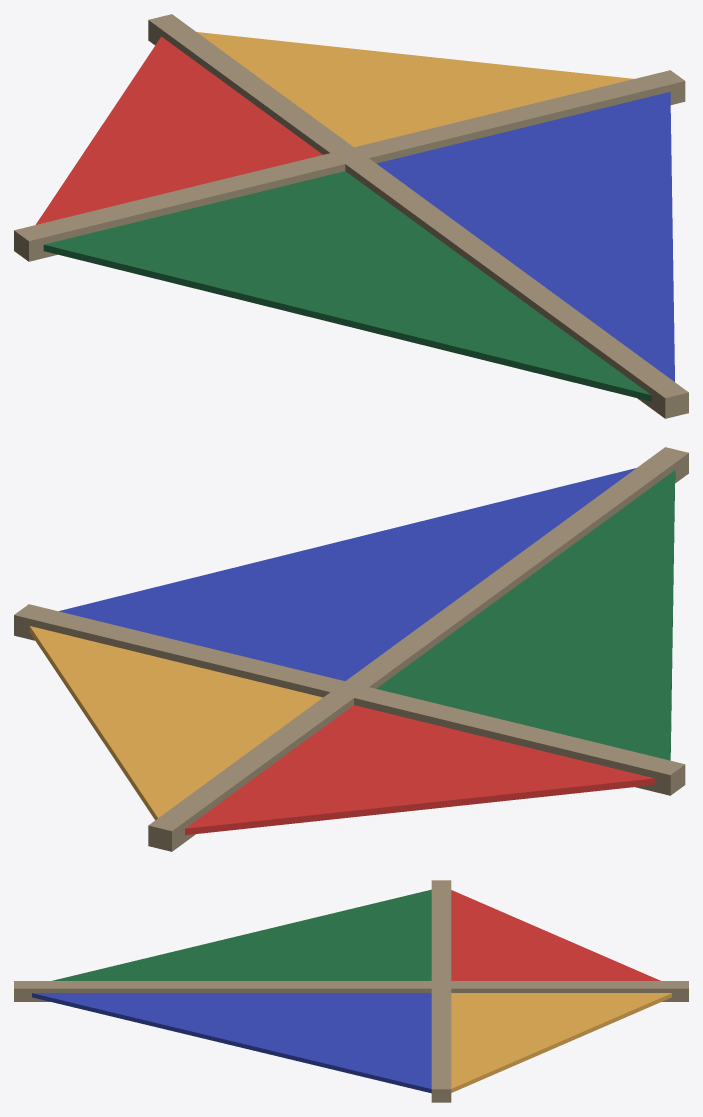
Rendered from Kite_01.fbx.
3 renders of one model, top to bottom at view 1: azimuth 30°, elevation 25°; view 2: azimuth 150°, elevation 25°; view 3: azimuth 270°, elevation 25°, orthographic. The views are drawn at different scales.
Visible parts, largest first — view 1: Kite_01; view 2: Kite_01; view 3: Kite_01.
Part boxes in pixels (x1,y1,x2,y2): Kite_01: (14, 14, 688, 418); Kite_01: (14, 447, 688, 851); Kite_01: (14, 880, 688, 1102).
Bounding box in the file's own units: 0.515 × 0.0155 × 0.7024.
